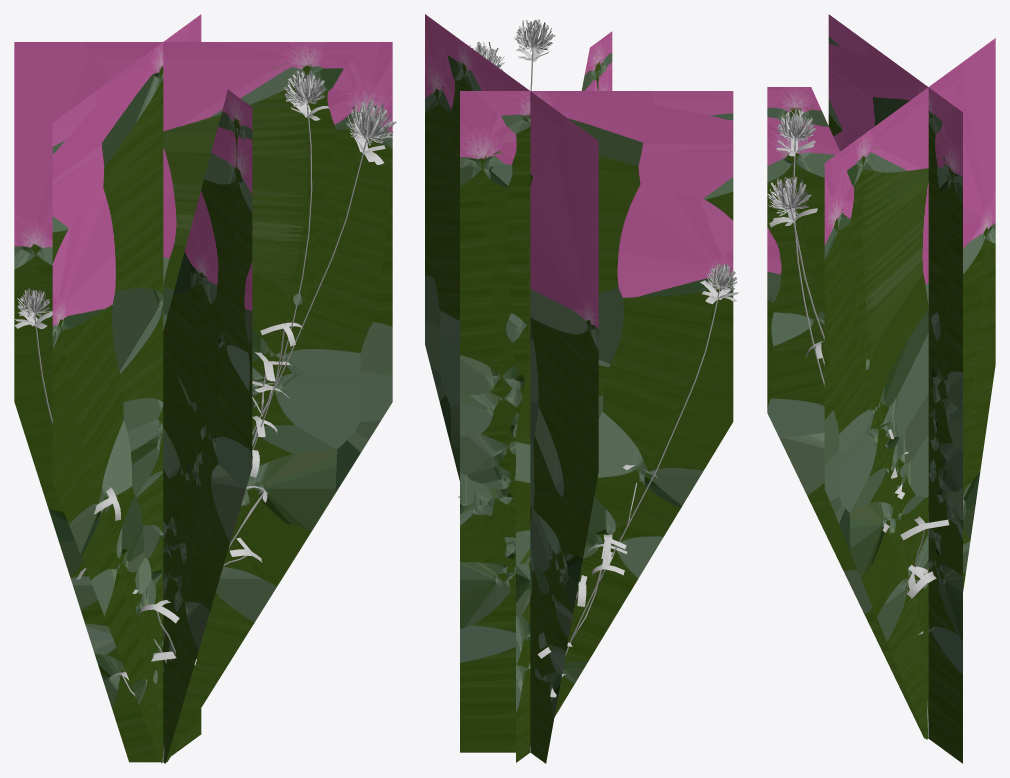
Rendered from PW_Red_Clover_1.fbx.
3 renders of one model, left to right at view 1: azimuth 30°, elevation 25°; view 2: azimuth 150°, elevation 25°; view 3: azimuth 270°, elevation 25°, orthographic. The views are drawn at different scales.
Parts seen in each view (by area): view 1: Billboard, LOD0; view 2: Billboard, LOD0; view 3: Billboard, LOD0.
Boxes of the visible parts, x1=… form: Billboard: x1=14, y1=14, x2=392, y2=763; LOD0: x1=14, y1=70, x2=396, y2=762; Billboard: x1=425, y1=14, x2=733, y2=763; LOD0: x1=457, y1=19, x2=738, y2=752; Billboard: x1=767, y1=14, x2=995, y2=763; LOD0: x1=767, y1=109, x2=949, y2=738.
Size of what is drawn, in the model's own units: 23.54 by 45.66 by 14.37.
